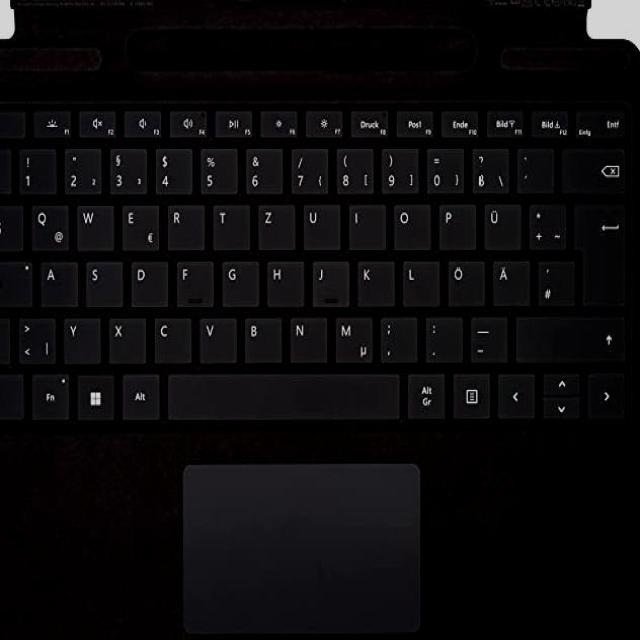0: (421, 141, 462, 193)
1: (18, 143, 59, 193)
2: (59, 141, 100, 193)
3: (104, 141, 145, 193)
4: (150, 141, 190, 192)
5: (194, 141, 235, 192)
6: (240, 141, 281, 192)
7: (287, 143, 326, 193)
8: (331, 141, 372, 192)
9: (377, 141, 417, 193)
a: (35, 255, 76, 306)
accent: (514, 143, 554, 193)
ae: (487, 254, 528, 304)
alt-left: (117, 368, 159, 418)
altgr-right: (403, 368, 445, 418)
b: (239, 310, 280, 362)
c: (149, 311, 189, 361)
caret: (0, 143, 18, 195)
comma: (375, 310, 415, 362)
d: (126, 255, 166, 306)
del: (558, 141, 625, 192)
e: (116, 198, 157, 250)
enter: (570, 197, 625, 307)
f: (171, 256, 212, 305)
g: (217, 256, 257, 305)
h: (265, 257, 305, 306)
hash: (533, 254, 573, 304)
i: (343, 197, 384, 247)
j: (308, 256, 346, 305)
k: (355, 258, 396, 308)
keyboard: (0, 87, 636, 435)
l: (401, 255, 441, 306)
less: (13, 311, 55, 363)
m: (329, 310, 371, 362)
minus: (466, 310, 506, 360)
n: (285, 311, 325, 361)
o: (391, 201, 431, 253)
oe: (443, 254, 483, 304)
p: (433, 197, 474, 247)
plus: (524, 197, 564, 249)
point: (420, 311, 461, 360)
q: (25, 198, 67, 250)
r: (162, 198, 203, 249)
s: (81, 255, 121, 306)
shift-left: (0, 311, 18, 363)
shift-lock: (0, 254, 31, 306)
shift-right: (511, 309, 624, 362)
space: (163, 367, 399, 420)
ss: (470, 144, 510, 194)
strg-left: (0, 366, 26, 419)
t: (208, 198, 248, 249)
tab: (0, 197, 24, 250)
u: (298, 198, 338, 249)
ue: (479, 197, 517, 249)
v: (194, 311, 235, 361)
w: (71, 197, 111, 249)
x: (104, 311, 145, 361)
y: (59, 311, 99, 361)
z: (253, 197, 294, 249)
